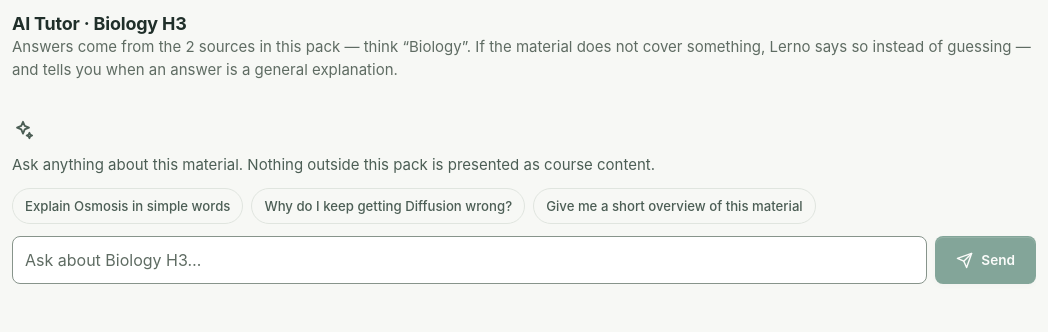
Test: PackTutor › answers from the pack and says where the answer comes from
The width and height of the screenshot is (1048, 332).
Type "What is osmosis?" into the field named "Ask the AI Tutor".
click(470, 260); type("What is osmosis?")  # box [12,236,927,284]
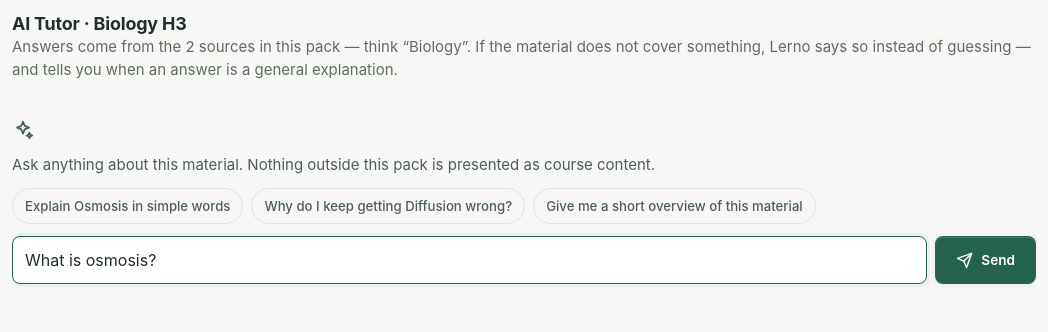
Click the button "Send".
click(986, 260)  # box [935,236,1036,284]
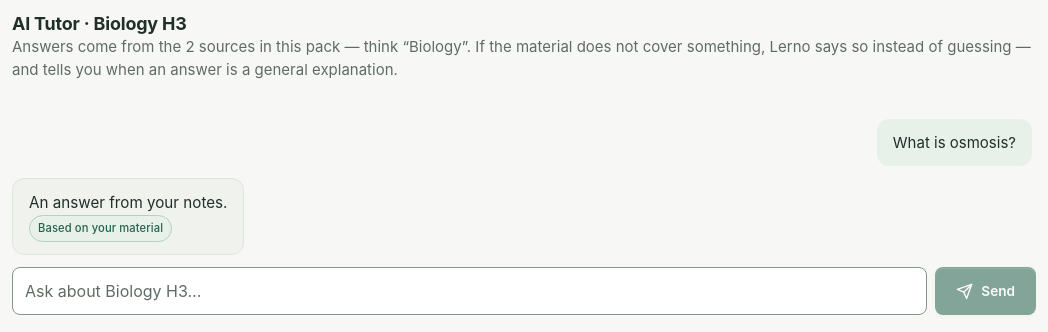
Expected: the text "An answer from your notes." is shown, [29,193,228,212]
Expected: the text "Based on your material" is shown, [29,215,172,242]
